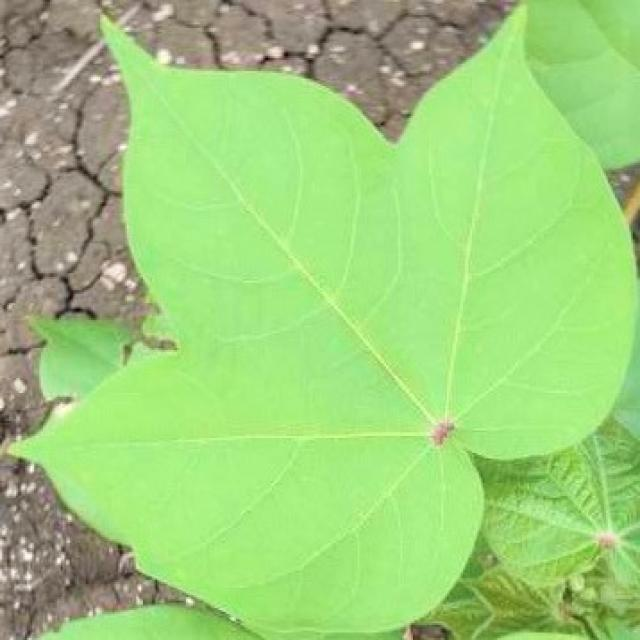Healthy Leaf: (186, 144, 490, 583)
